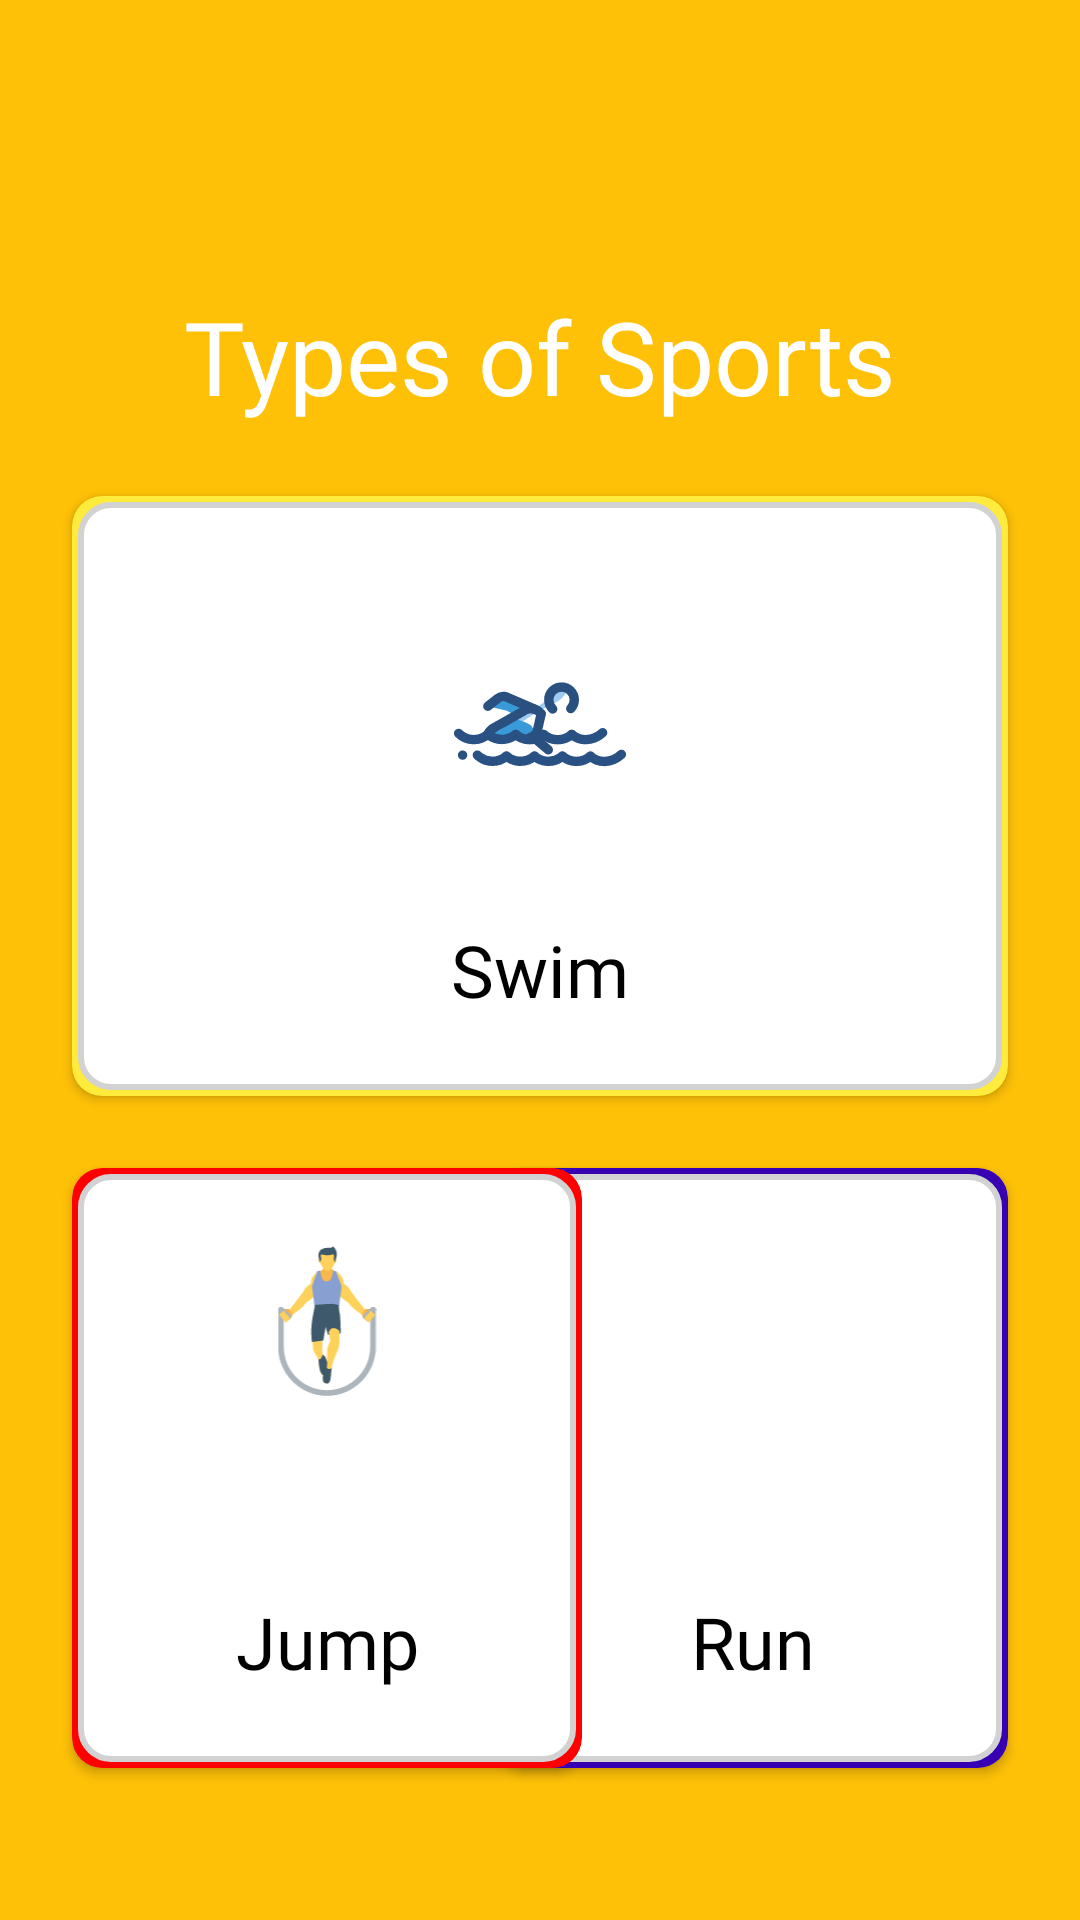

Icon bounding boxes for this 1080*1920 phone screenshot, format [x1=x1, y1=y1, x2=x2, y2=y2]:
jump: [x1=278, y1=1246, x2=377, y2=1396]
